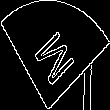M_SW: (30, 21, 80, 89)
